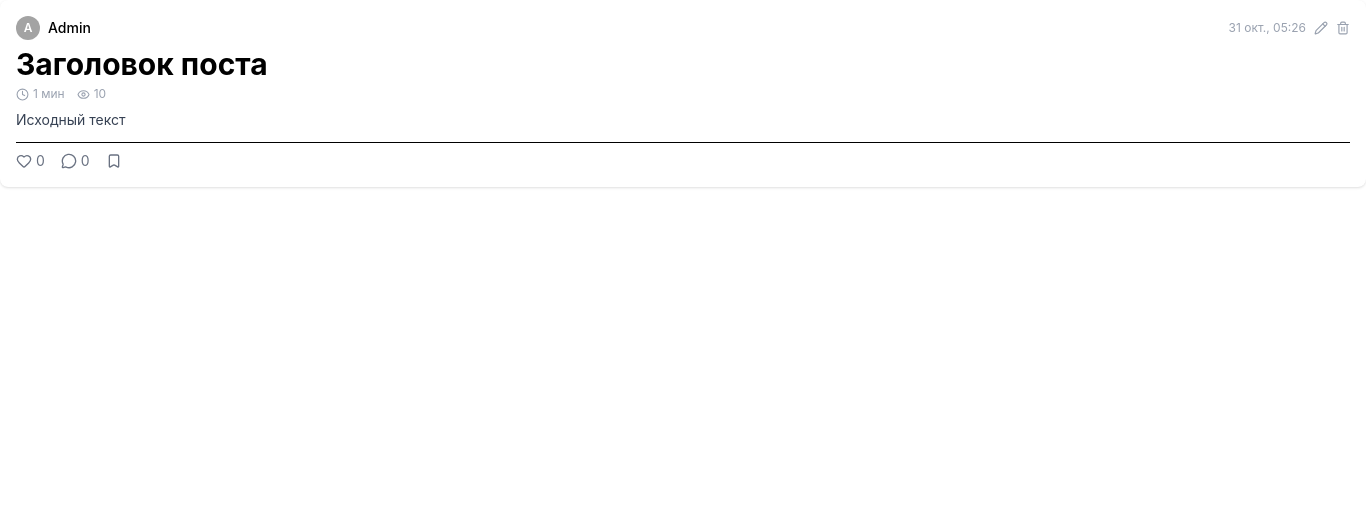
Test: PostCard редактирование › вход в редактирование показывает заголовок в поле ввода и шестерёнку настроек, редактор по умолчанию WYSIWYG
The image size is (1366, 518).
Click the button with class "lucide-pencil" at [1321, 28], box [1314,21,1328,35]
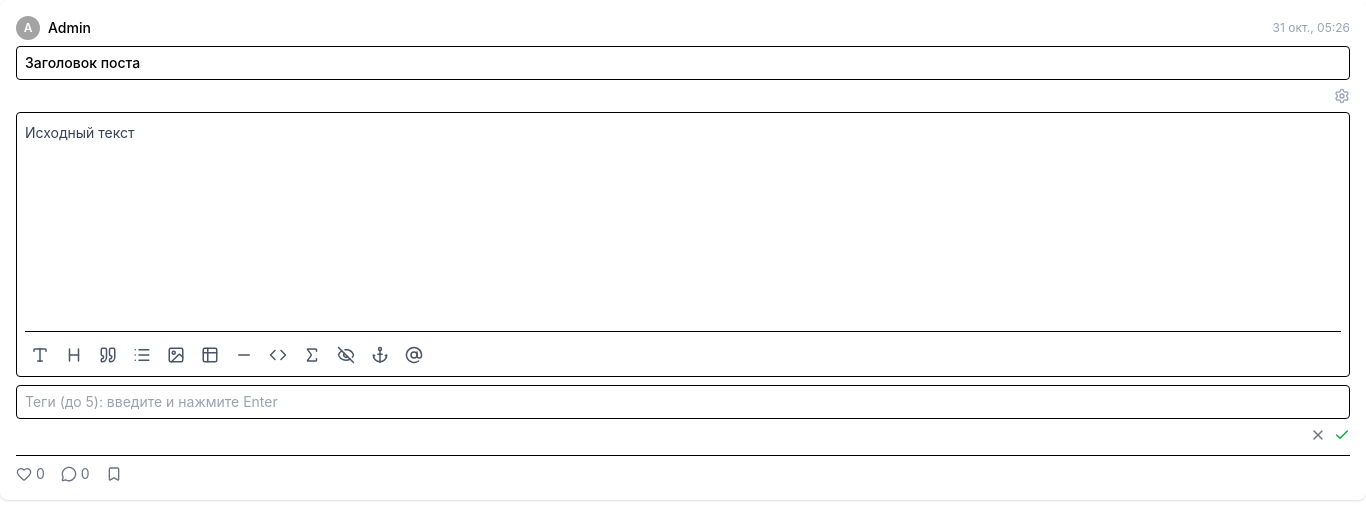
Result: the field showing "Заголовок поста" is shown at [16,46,1350,80]
Result: the button titled "Настройки редактора" is shown at [1334,88,1350,104]
